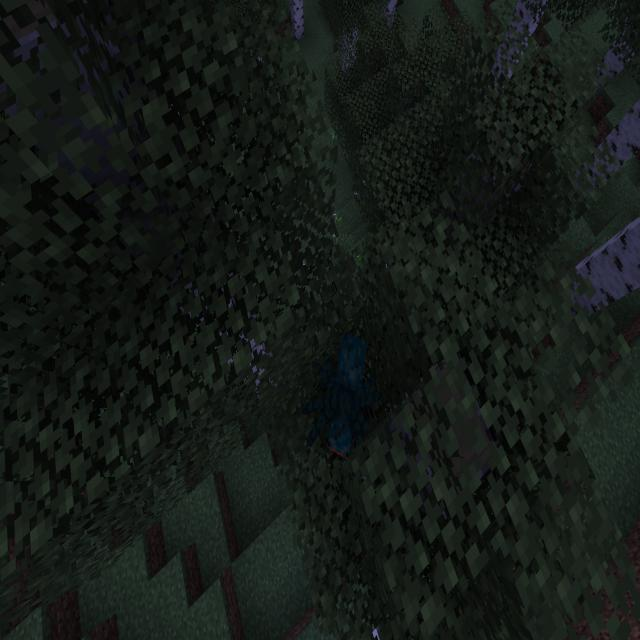Cave Spider: (302, 327, 390, 472)
